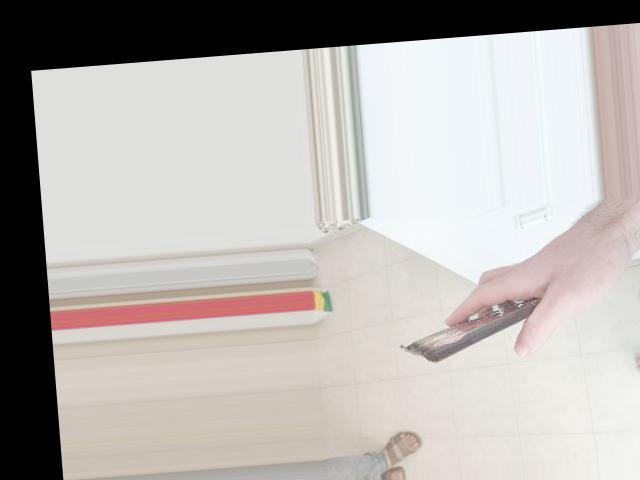chocolate: (398, 279, 562, 374)
